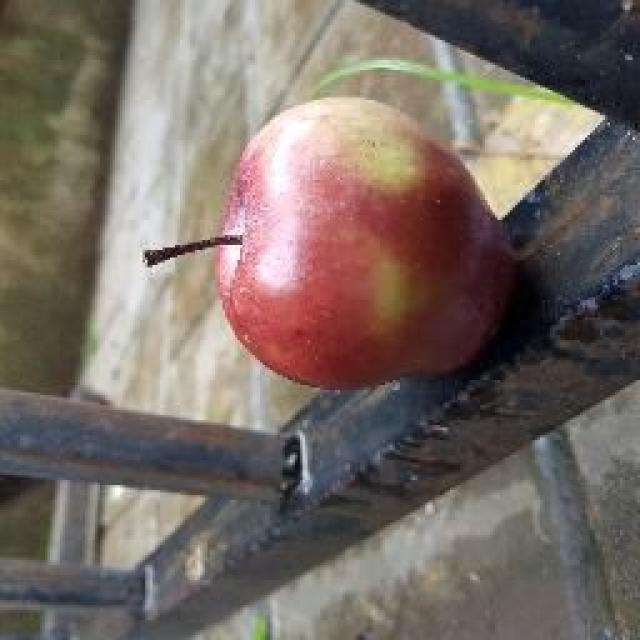Good_Apple: (205, 95, 520, 392)
